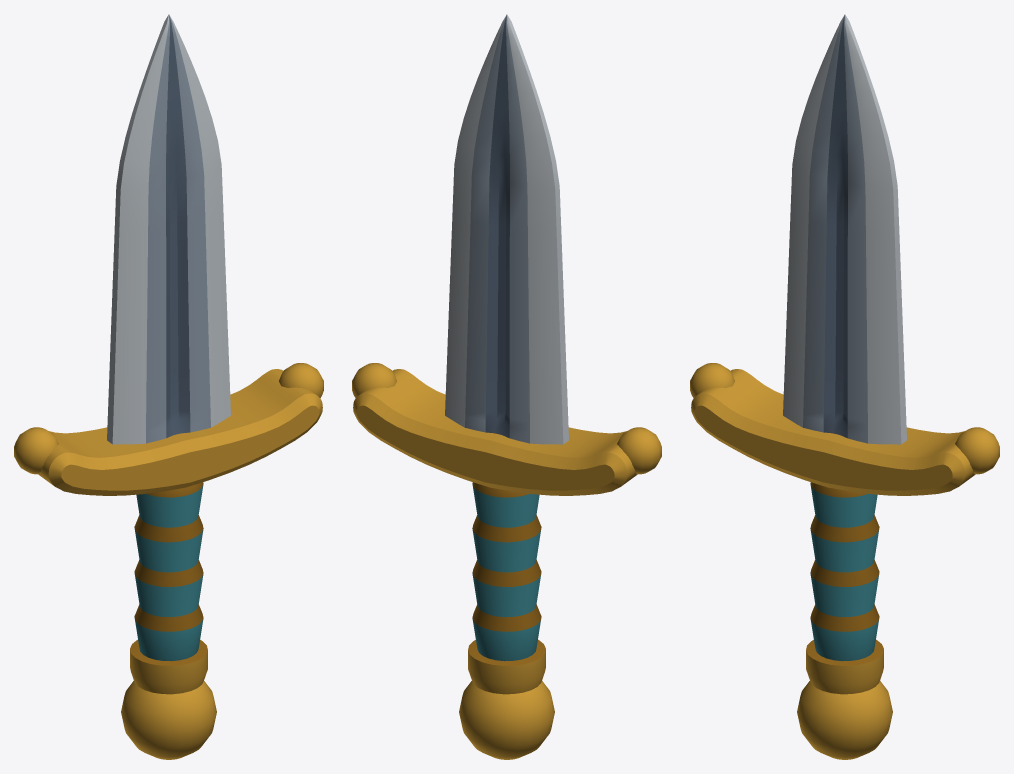
File: Dagger_06.glb
3 renders of one model, left to right at view 1: azimuth 30°, elevation 25°; view 2: azimuth 150°, elevation 25°; view 3: azimuth 330°, elevation 25°, orthographic.
Visible parts, largest first — view 1: Dagger_06; view 2: Dagger_06; view 3: Dagger_06.
Boxes of the visible parts, left/top/right/bottom form: Dagger_06: left=14, top=14, right=323, bottom=759; Dagger_06: left=352, top=14, right=661, bottom=759; Dagger_06: left=690, top=14, right=999, bottom=759.
Bounding box in the file's own units: 1.7 × 3.95 × 0.464.
